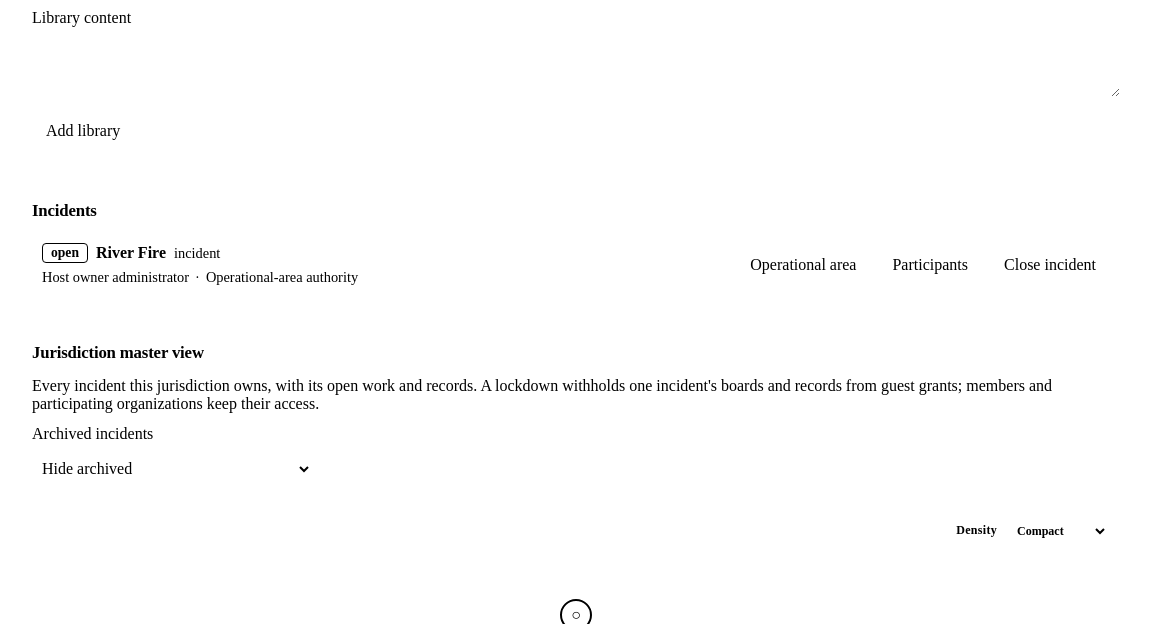
offers checklist completion only on items of the signed-in position
This screenshot has width=1152, height=624.
(page scrolled)
Click the button "Operational area": coordinates (803, 265) x1=736 y1=243 x2=870 y2=287
(page scrolled)
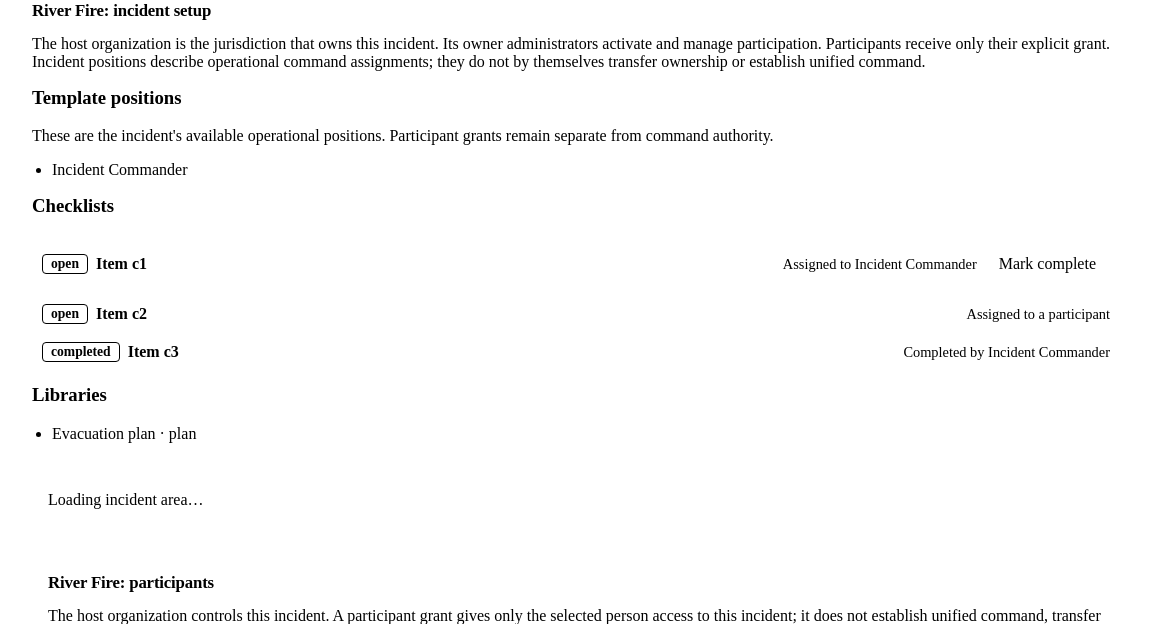
Check: the text "Completed by Incident Commander" is shown, box x1=903 y1=344 x2=1110 y2=361
Check: the list item "Evacuation plan · plan" is shown, box x1=52 y1=425 x2=196 y2=442
Click the button "Mark complete": coordinates (1047, 264) x1=985 y1=242 x2=1110 y2=286
(page scrolled)
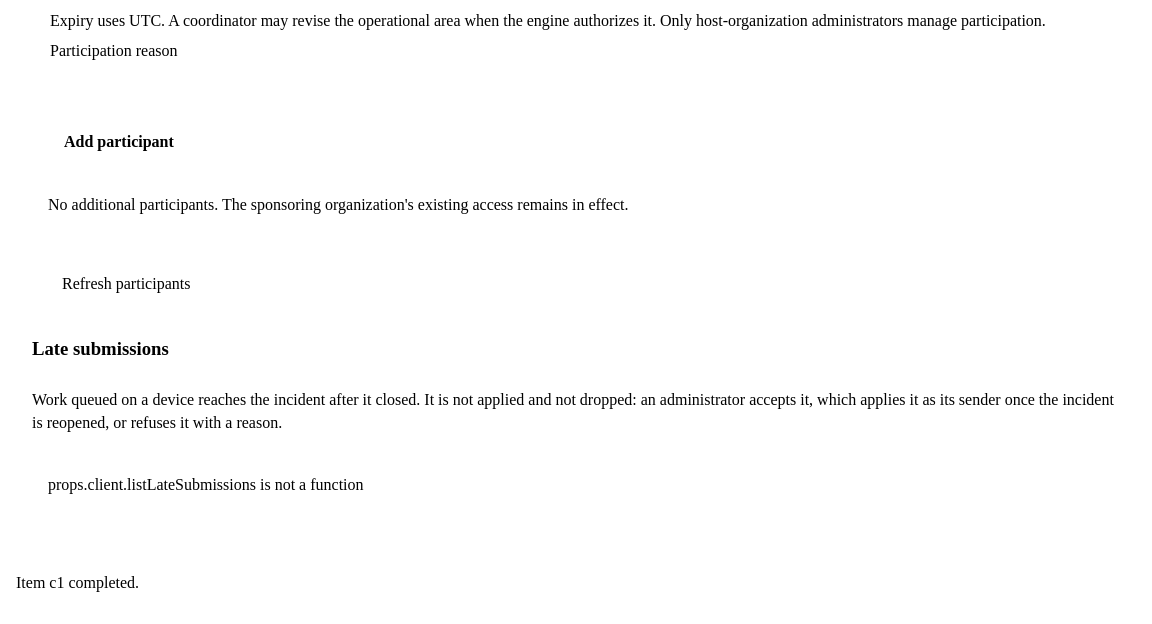
Check: the text "Item c1 completed." is shown, box x1=16 y1=574 x2=139 y2=591
